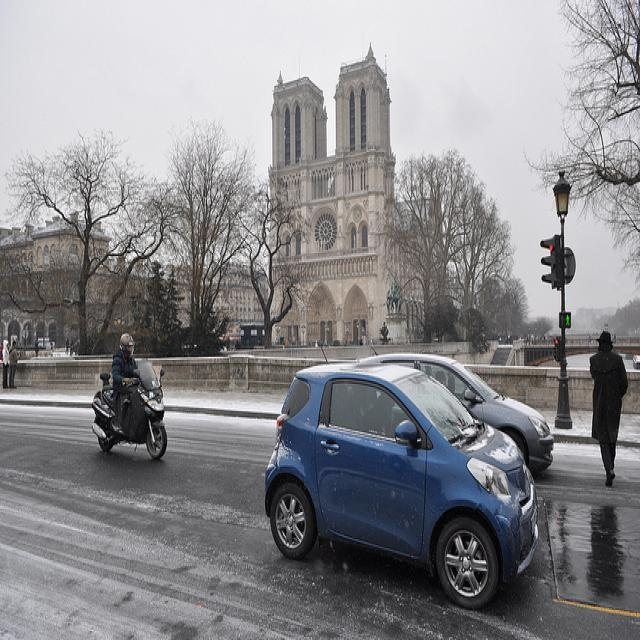motor: (92, 363, 168, 458)
